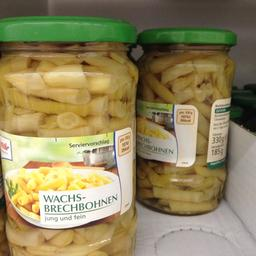beans: (0, 16, 137, 255), (140, 26, 230, 216)
